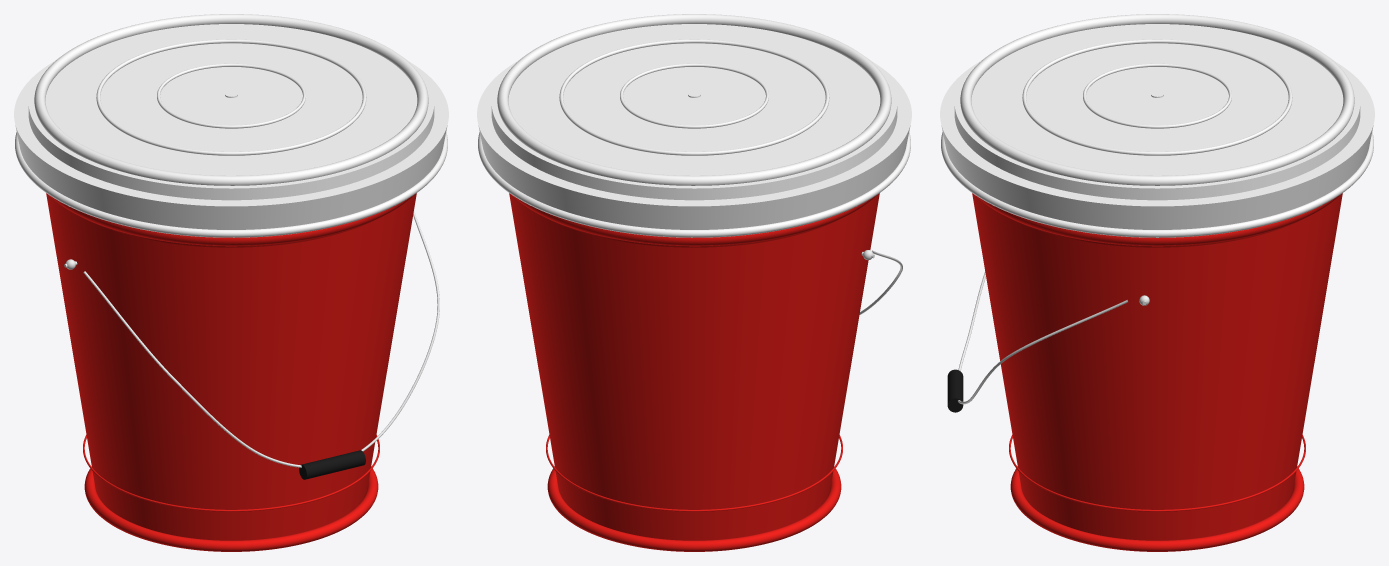
File: paint-container-procedural-red-white.glb
3 renders of one model, left to right at view 1: azimuth 30°, elevation 25°; view 2: azimuth 150°, elevation 25°; view 3: azimuth 270°, elevation 25°, orthographic.
Parts seen in each view (by area): view 1: tapered glossy red paint pail body, flat bright white lid top, bright white snap lid side wall, outer raised white lid rim, rounded lower molded foot ring, lower white snap bead, middle shallow circular lid ring, upper red rolled rim under lid, clean arched silver wire bail handle, inner shallow circular lid ring, centered black plastic handle grip, subtle lower body circular mold line; view 2: tapered glossy red paint pail body, flat bright white lid top, bright white snap lid side wall, outer raised white lid rim, rounded lower molded foot ring, lower white snap bead, middle shallow circular lid ring, upper red rolled rim under lid, inner shallow circular lid ring, subtle lower body circular mold line; view 3: tapered glossy red paint pail body, flat bright white lid top, bright white snap lid side wall, outer raised white lid rim, rounded lower molded foot ring, lower white snap bead, middle shallow circular lid ring, upper red rolled rim under lid, inner shallow circular lid ring, clean arched silver wire bail handle, subtle lower body circular mold line, centered black plastic handle grip (+1 smaller).
Boxes of the visible parts, x1,y1,x2,y2 form: tapered glossy red paint pail body: (46, 193, 416, 540); flat bright white lid top: (28, 24, 434, 200); bright white snap lid side wall: (14, 63, 448, 229); outer raised white lid rim: (34, 14, 428, 185); rounded lower molded foot ring: (84, 466, 378, 551); lower white snap bead: (15, 132, 447, 237); middle shallow circular lid ring: (96, 39, 366, 155); upper red rolled rim under lid: (48, 194, 414, 246); clean arched silver wire bail handle: (83, 210, 439, 467); inner shallow circular lid ring: (157, 63, 305, 128); centered black plastic handle grip: (299, 450, 365, 479); subtle lower body circular mold line: (83, 435, 379, 511); tapered glossy red paint pail body: (509, 193, 879, 540); flat bright white lid top: (491, 24, 897, 200); bright white snap lid side wall: (477, 63, 911, 229); outer raised white lid rim: (497, 14, 891, 185); rounded lower molded foot ring: (547, 466, 841, 551); lower white snap bead: (478, 132, 910, 237); middle shallow circular lid ring: (559, 39, 829, 155); upper red rolled rim under lid: (511, 194, 877, 246); inner shallow circular lid ring: (620, 63, 768, 128); subtle lower body circular mold line: (546, 435, 842, 511); tapered glossy red paint pail body: (972, 193, 1342, 540); flat bright white lid top: (954, 24, 1360, 200); bright white snap lid side wall: (940, 63, 1374, 229); outer raised white lid rim: (960, 14, 1354, 185); rounded lower molded foot ring: (1010, 466, 1304, 551); lower white snap bead: (941, 132, 1373, 237); middle shallow circular lid ring: (1022, 39, 1292, 155); upper red rolled rim under lid: (974, 194, 1340, 246); inner shallow circular lid ring: (1083, 63, 1231, 128); clean arched silver wire bail handle: (958, 271, 1127, 404); subtle lower body circular mold line: (1009, 435, 1305, 511); centered black plastic handle grip: (947, 369, 963, 412).
Size of the model in its own units: 2.68 by 2.7 by 2.68.
